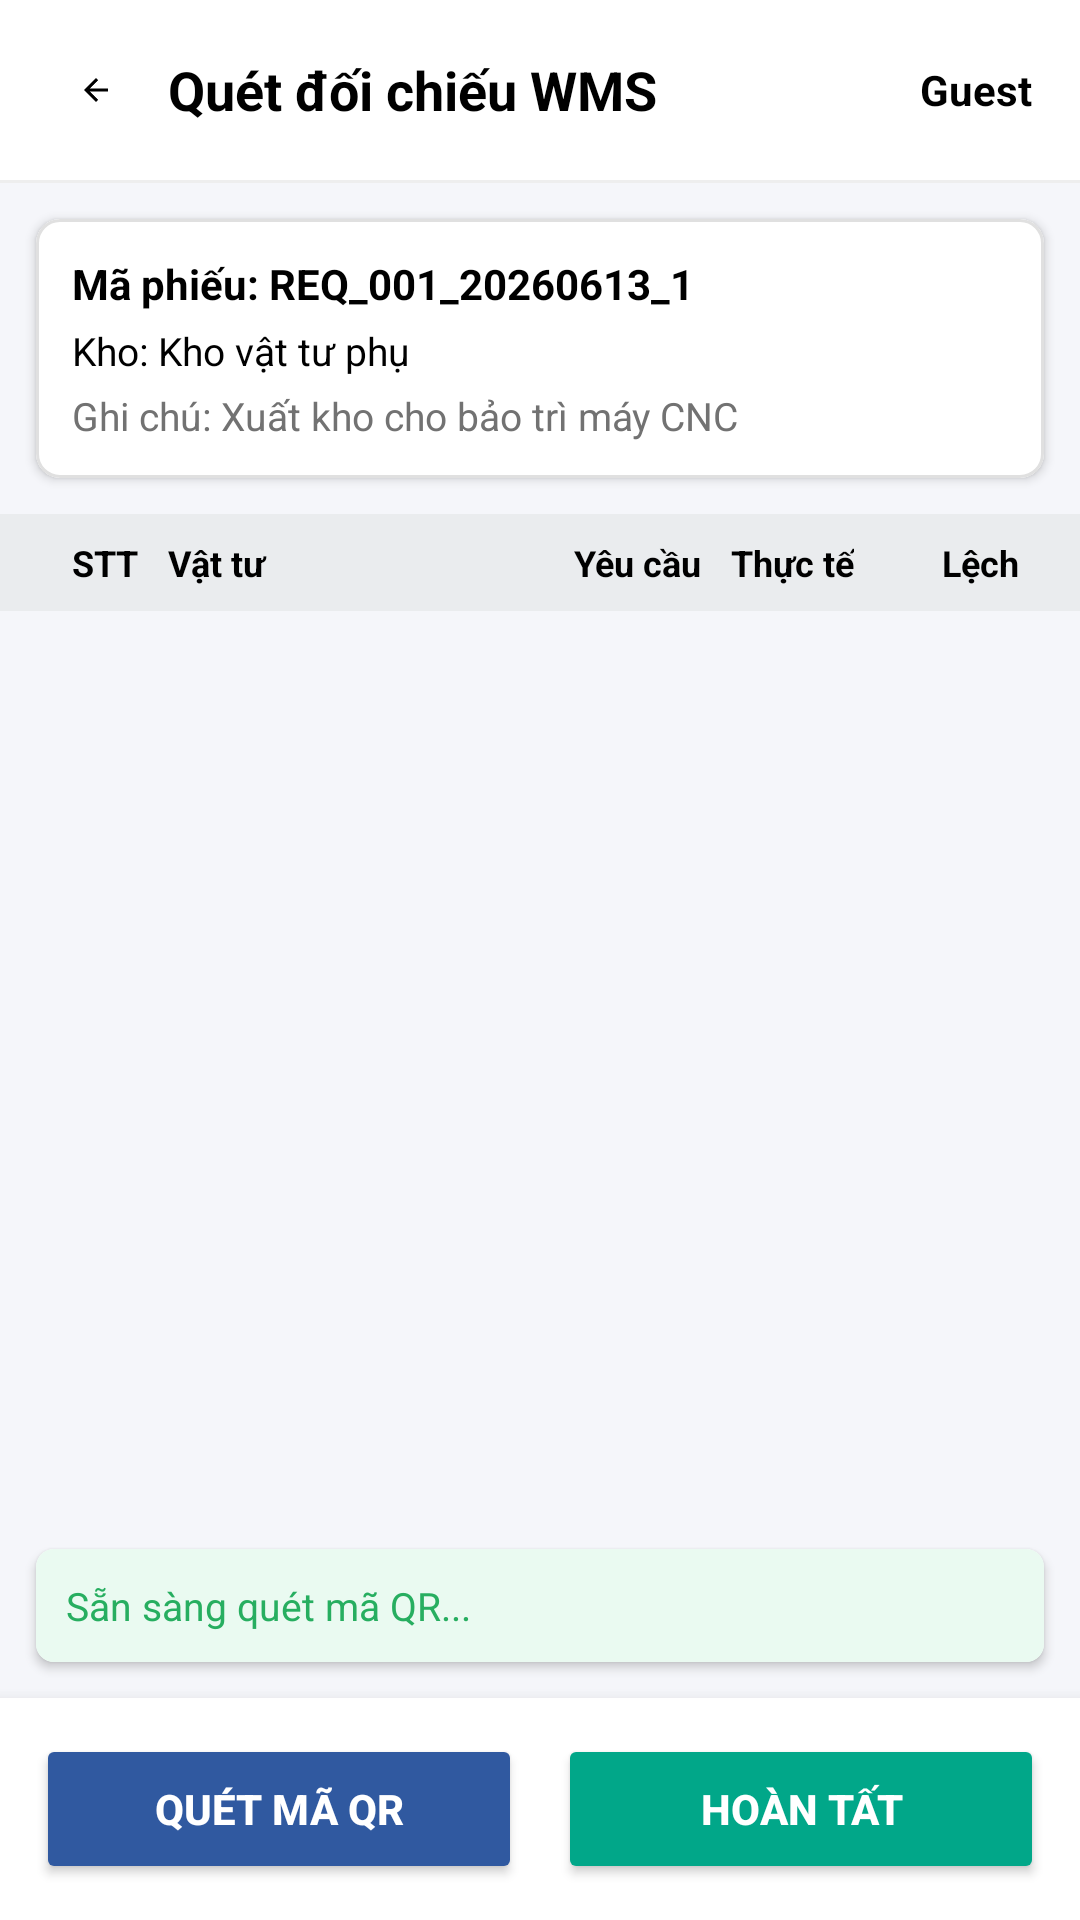

Icon click points for this 1080x1920 phone screenshot, format (x,y):
back: (96,90)
